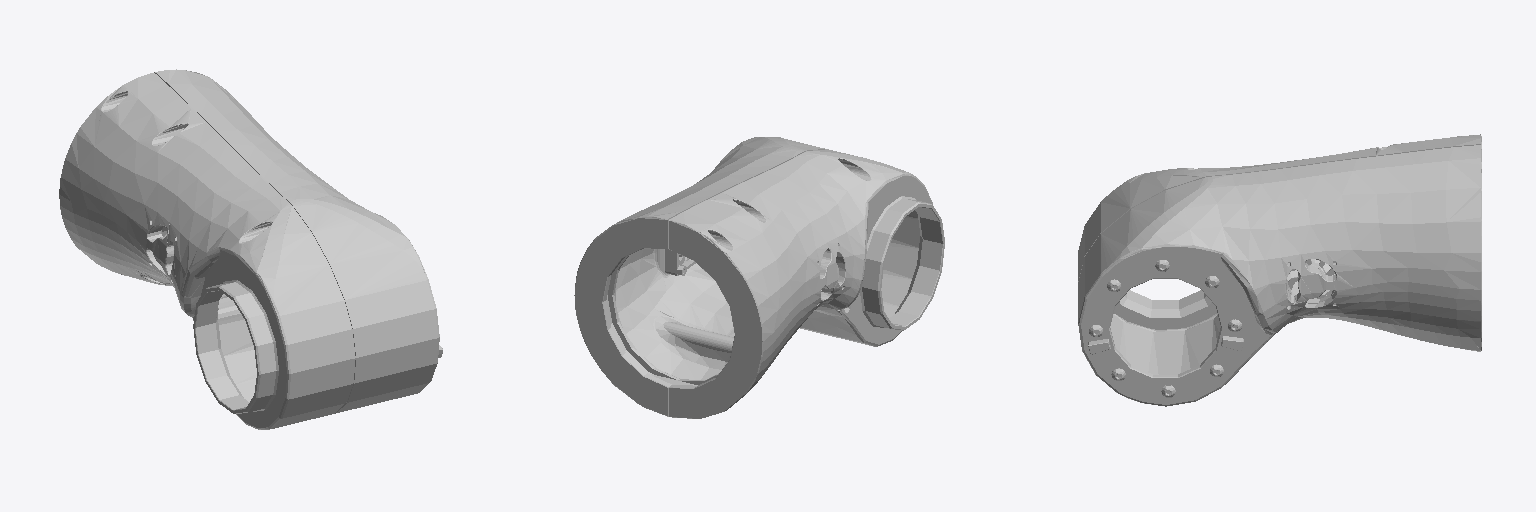
File: right_arm_sho3.obj
3 views of the same model, side by side, from view 1: azimuth 30°, elevation 25°; view 2: azimuth 150°, elevation 25°; view 3: azimuth 270°, elevation 25° (orthographic).
Parts seen in each view (by area): view 1: right_arm_sho3; view 2: right_arm_sho3; view 3: right_arm_sho3.
Part boxes in pixels (x1,y1,x2,y2): right_arm_sho3: (59, 69, 442, 429); right_arm_sho3: (574, 137, 944, 418); right_arm_sho3: (1078, 134, 1481, 406).
Size of the model in its own units: 0.1169 by 0.1285 by 0.2123.